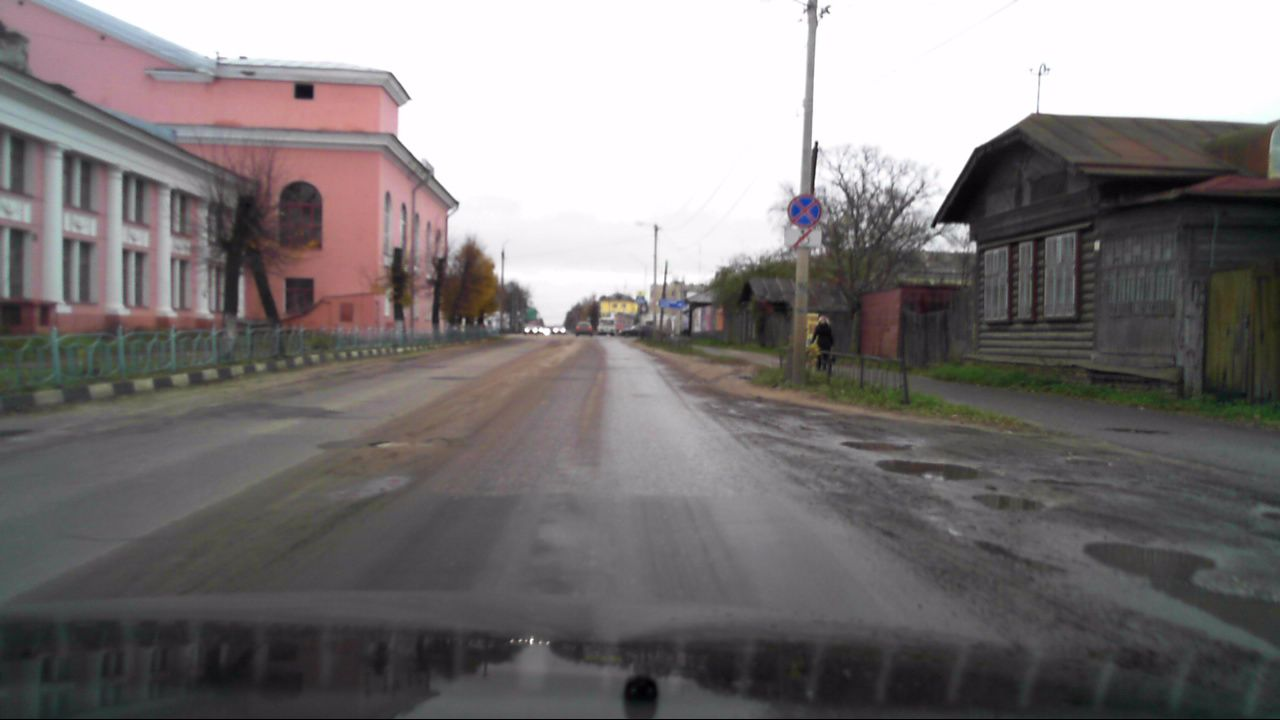No Parking: (787, 194, 822, 228)
